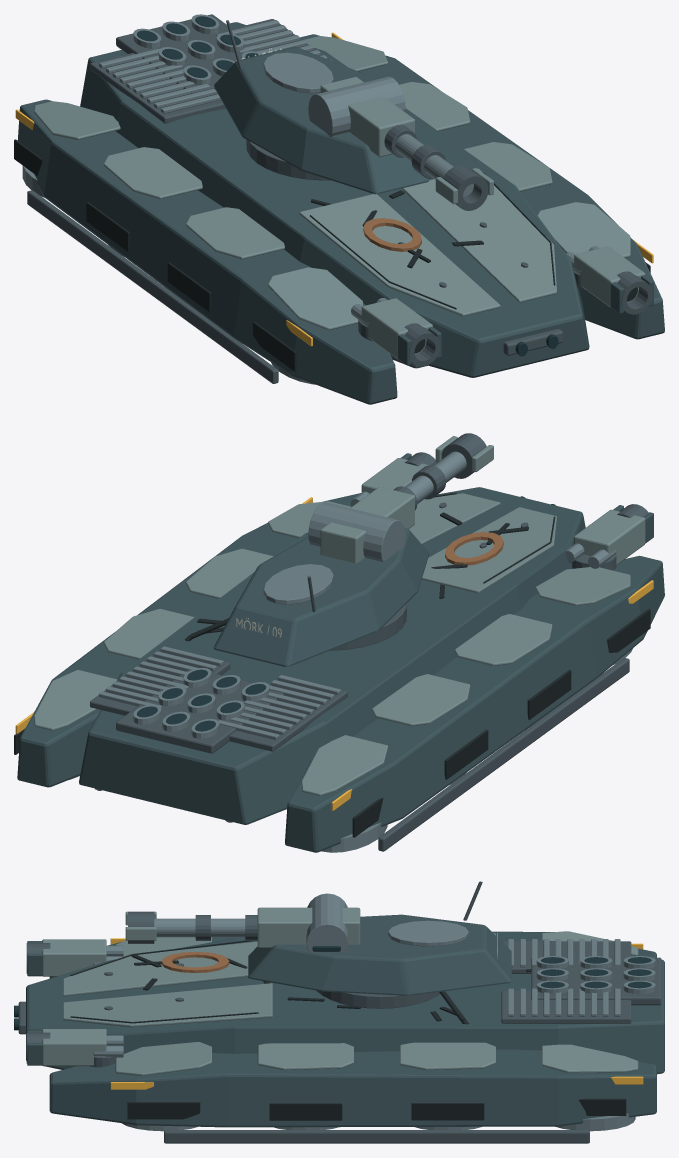
The model's file is mork_d2.meshopt.glb.
3 views of the same model, one above another, from view 1: azimuth 30°, elevation 25°; view 2: azimuth 150°, elevation 25°; view 3: azimuth 270°, elevation 25° (orthographic). The views are drawn at different scales.
Visible parts, largest first — view 1: Low armored main hull.002, Armored hover nacelle.004, Swept glacis armor.004, Tapered nacelle shield.016, Lean turret wedge.002, Tapered nacelle shield.020, Armored hover nacelle.005, Engine cooling louver.040, Engine heat exchanger.004, Ground contact skid.008, Lift vent recess.016, Armored cannon breech.002 (+12 smaller); view 2: Low armored main hull.002, Armored hover nacelle.004, Lean turret wedge.002, Tapered nacelle shield.016, Tapered nacelle shield.020, Armored hover nacelle.005, Swept glacis armor.004, Engine cooling louver.040, Engine heat exchanger.004, Ground contact skid.008, Armored cannon breech.002, Lift vent recess.016 (+11 smaller); view 3: Armored hover nacelle.005, Low armored main hull.002, Lean turret wedge.002, Swept glacis armor.004, Tapered nacelle shield.020, Engine heat exchanger.004, Ground contact skid.010, Lift vent recess.020, Armored cannon breech.002, Engine cooling louver.040, Low plasma projector.005, Gun trunnion.002 (+15 smaller).
Part boxes in pixels (bbox=[...]): Low armored main hull.002: bbox=[80, 22, 589, 377]; Armored hover nacelle.004: bbox=[17, 99, 397, 404]; Swept glacis armor.004: bbox=[299, 168, 556, 316]; Tapered nacelle shield.016: bbox=[34, 101, 362, 330]; Lean turret wedge.002: bbox=[214, 46, 428, 194]; Tapered nacelle shield.020: bbox=[304, 36, 630, 257]; Armored hover nacelle.005: bbox=[300, 34, 664, 339]; Engine cooling louver.040: bbox=[99, 20, 331, 113]; Engine heat exchanger.004: bbox=[90, 14, 562, 355]; Ground contact skid.008: bbox=[27, 190, 278, 383]; Lift vent recess.016: bbox=[14, 139, 296, 371]; Armored cannon breech.002: bbox=[320, 77, 493, 204]; Low armored main hull.002: bbox=[79, 487, 585, 824]; Armored hover nacelle.004: bbox=[285, 555, 664, 852]; Lean turret wedge.002: bbox=[214, 528, 429, 667]; Tapered nacelle shield.016: bbox=[301, 567, 630, 795]; Tapered nacelle shield.020: bbox=[34, 501, 351, 730]; Armored hover nacelle.005: bbox=[17, 493, 360, 787]; Swept glacis armor.004: bbox=[408, 493, 556, 593]; Engine cooling louver.040: bbox=[99, 646, 340, 739]; Engine heat exchanger.004: bbox=[90, 502, 528, 753]; Ground contact skid.008: bbox=[378, 658, 629, 851]; Armored cannon breech.002: bbox=[320, 436, 493, 563]; Lift vent recess.016: bbox=[352, 609, 650, 837]; Armored hover nacelle.005: bbox=[49, 1049, 656, 1127]; Low armored main hull.002: bbox=[26, 938, 664, 1074]; Lean turret wedge.002: bbox=[248, 914, 511, 995]; Swept glacis armor.004: bbox=[63, 941, 272, 1027]; Tapered nacelle shield.020: bbox=[115, 1042, 638, 1075]; Engine heat exchanger.004: bbox=[18, 941, 661, 1034]; Ground contact skid.010: bbox=[164, 1130, 589, 1143]; Lift vent recess.020: bbox=[127, 1098, 626, 1120]; Armored cannon breech.002: bbox=[125, 907, 360, 947]; Engine cooling louver.040: bbox=[508, 939, 620, 1016]; Low plasma projector.005: bbox=[42, 1029, 106, 1066]; Gun trunnion.002: bbox=[306, 893, 348, 953].
Bounding box in the file's own units: 5.83 × 3.02 × 10.48.
